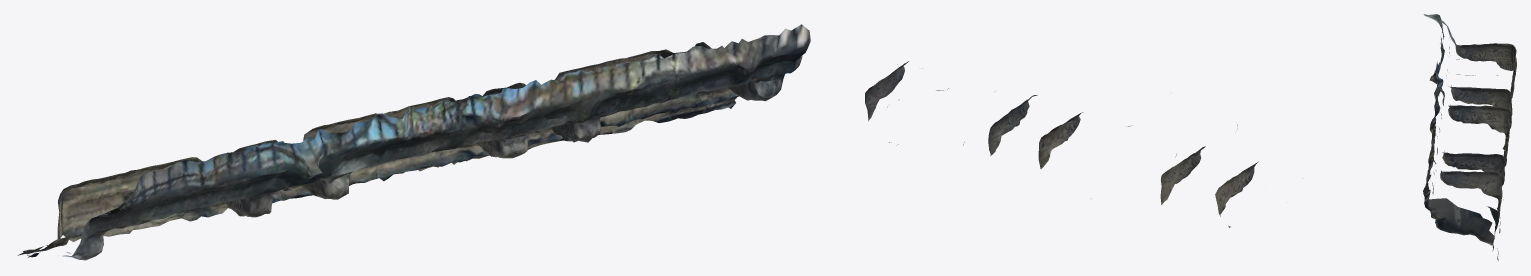
Rendered from frag4.glb.
3 views of the same model, side by side, from view 1: azimuth 30°, elevation 25°; view 2: azimuth 150°, elevation 25°; view 3: azimuth 270°, elevation 25° (orthographic). The views are drawn at different scales.
Parts seen in each view (by area): view 1: 22_11_2025; view 2: 22_11_2025; view 3: 22_11_2025.
Boxes of the visible parts, x1,y1,x2,y2 form: 22_11_2025: [17, 24, 810, 260]; 22_11_2025: [865, 61, 1258, 227]; 22_11_2025: [1423, 14, 1516, 260].
Size of the model in its own units: 1.81 by 0.3147 by 0.3628.
Materials: 1 (1 with a texture image).
